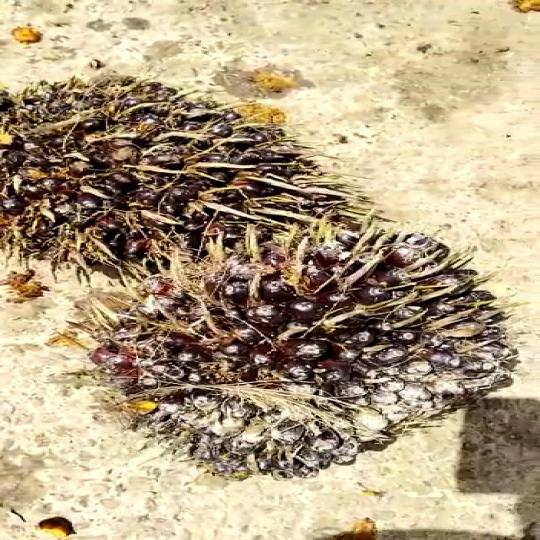mentah: (91, 218, 538, 482), (0, 76, 380, 271)
